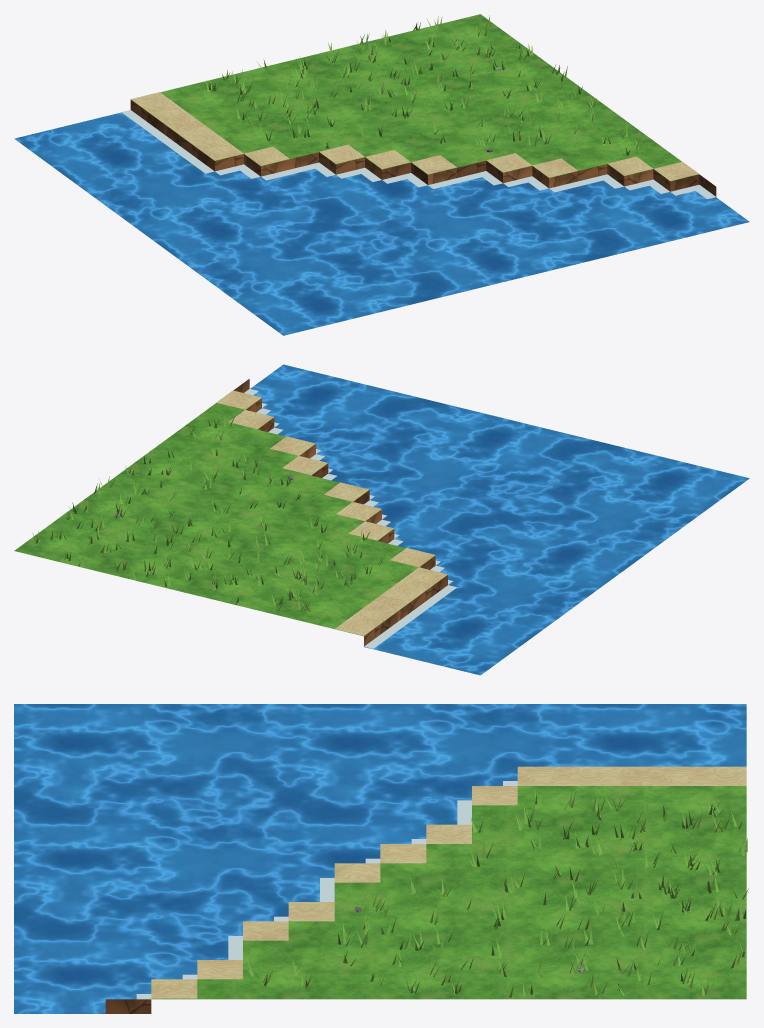
The model's file is chunk_4_14.glb.
The picture shows the model from 3 angles, top to bottom: view 1: azimuth 30°, elevation 25°; view 2: azimuth 150°, elevation 25°; view 3: azimuth 270°, elevation 25°; orthographic projection. The views are drawn at different scales.
Parts seen in each view (by area): view 1: chunk_4_14; view 2: chunk_4_14; view 3: chunk_4_14.
Part boxes in pixels (bbox=[...]): chunk_4_14: bbox=[14, 14, 749, 335]; chunk_4_14: bbox=[14, 364, 749, 675]; chunk_4_14: bbox=[14, 704, 748, 1013].
Size of the model in its own units: 16.06 by 0.7575 by 16.07.
9 materials, 7 textured.
